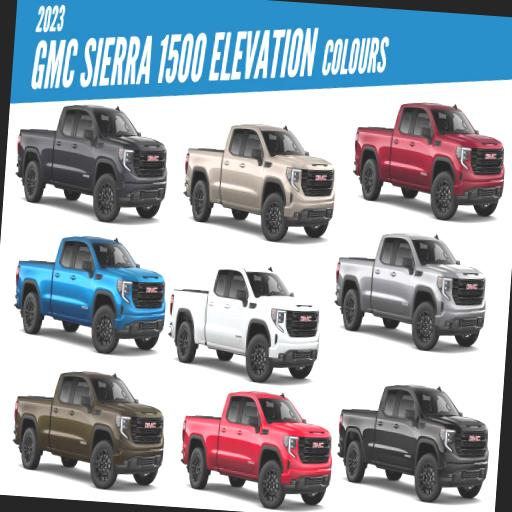pickup: (13, 372, 164, 487), (181, 392, 331, 507), (18, 106, 166, 221), (186, 125, 334, 240), (355, 104, 504, 218), (170, 267, 318, 381), (337, 235, 484, 349), (16, 239, 164, 352), (339, 387, 487, 495)
